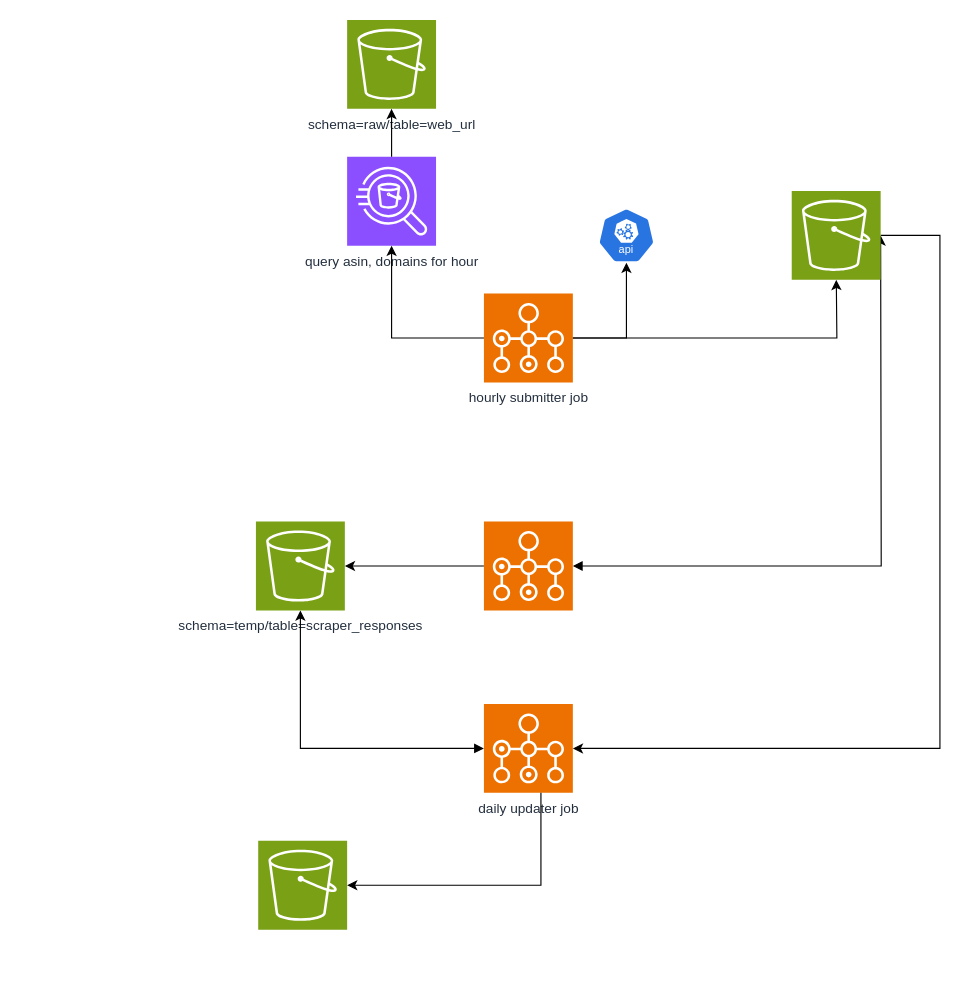
This 969x1001 diagram has some shape labels left out. The centre of each missing label's shape, as x and y in pixels:
"hourly collector job" goes at pixel 528 565.
"schema=taxonomy/table=amazon_shopper_metadata/version=2/par_ts=YYYYMMDD000000" goes at pixel 302 885.
